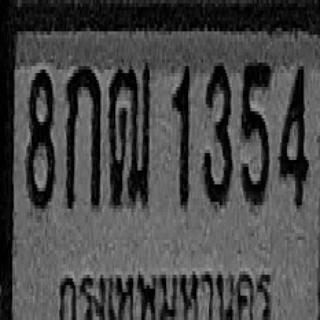A01: (65, 61, 100, 207)
A18: (108, 59, 150, 205)
N01: (171, 63, 190, 205)
N03: (203, 58, 231, 204)
N04: (279, 63, 308, 205)
N05: (241, 58, 271, 204)
N08: (26, 66, 55, 209)
P04: (58, 260, 271, 320)
